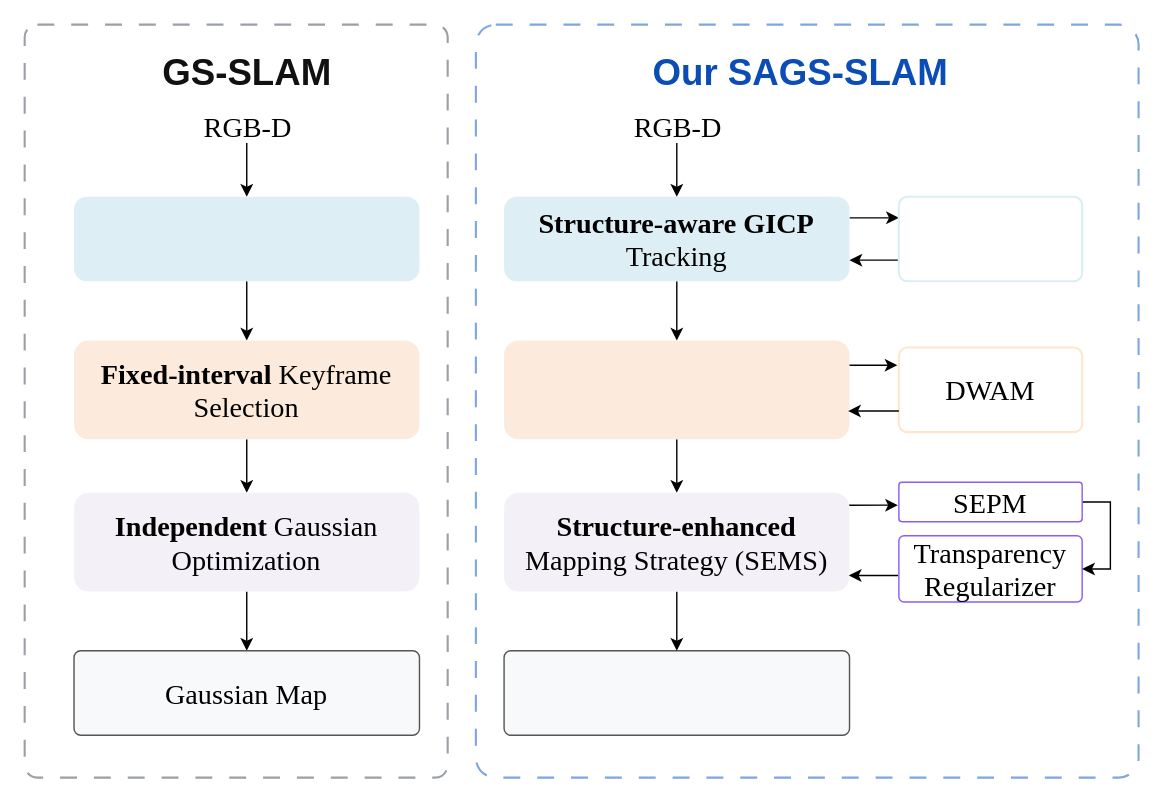
This 1165x804 diagram has some shape labels left out. Here are the shapes that lost their labels. From the top down, the centre of each, then its label:
(x=246, y=238): Photometric Tracking
(x=990, y=238): GICP
(x=676, y=389): Structure-driven Keyframe Management
(x=676, y=692): High-fidelity Gaussian Map
